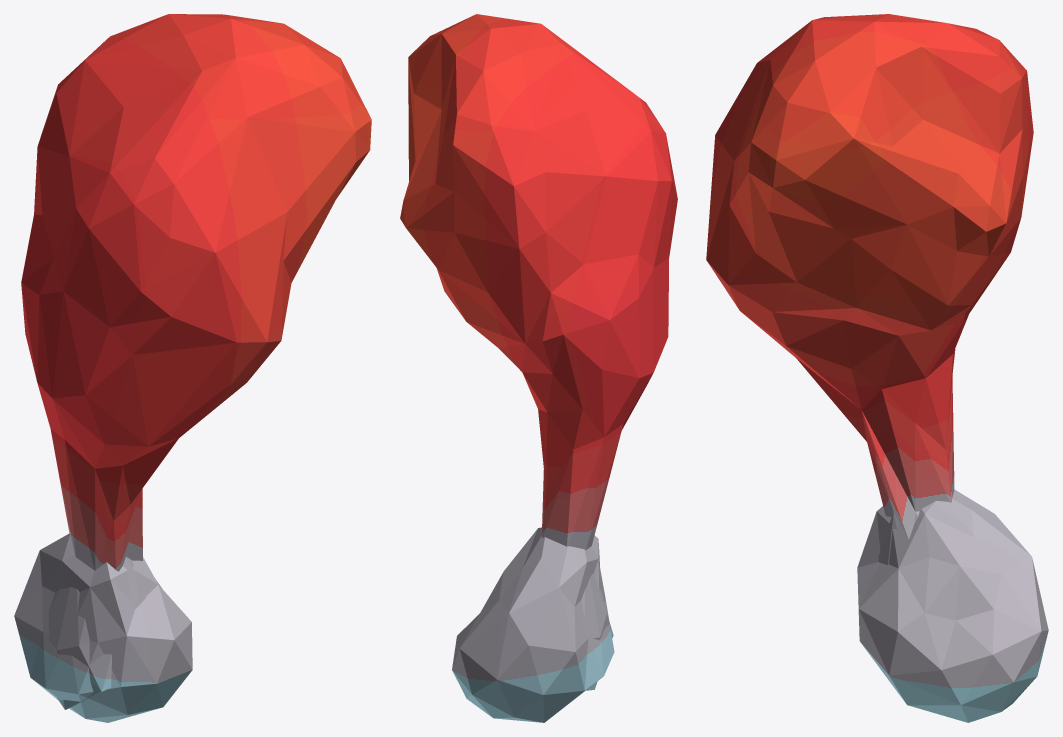
The model's file is Viande1.obj.
3 views of the same model, side by side, from view 1: azimuth 30°, elevation 25°; view 2: azimuth 150°, elevation 25°; view 3: azimuth 270°, elevation 25° (orthographic). The views are drawn at different scales.
Visible parts, largest first — view 1: Viande1:Group61986 group3; view 2: Viande1:Group61986 group3; view 3: Viande1:Group61986 group3.
Part boxes in pixels (x1,y1,x2,y2): Viande1:Group61986 group3: [14, 14, 371, 722]; Viande1:Group61986 group3: [400, 14, 677, 722]; Viande1:Group61986 group3: [706, 14, 1048, 722].
Size of the model in its own units: 1.82 by 4.39 by 1.87.
Materials: 1 (1 with a texture image).
